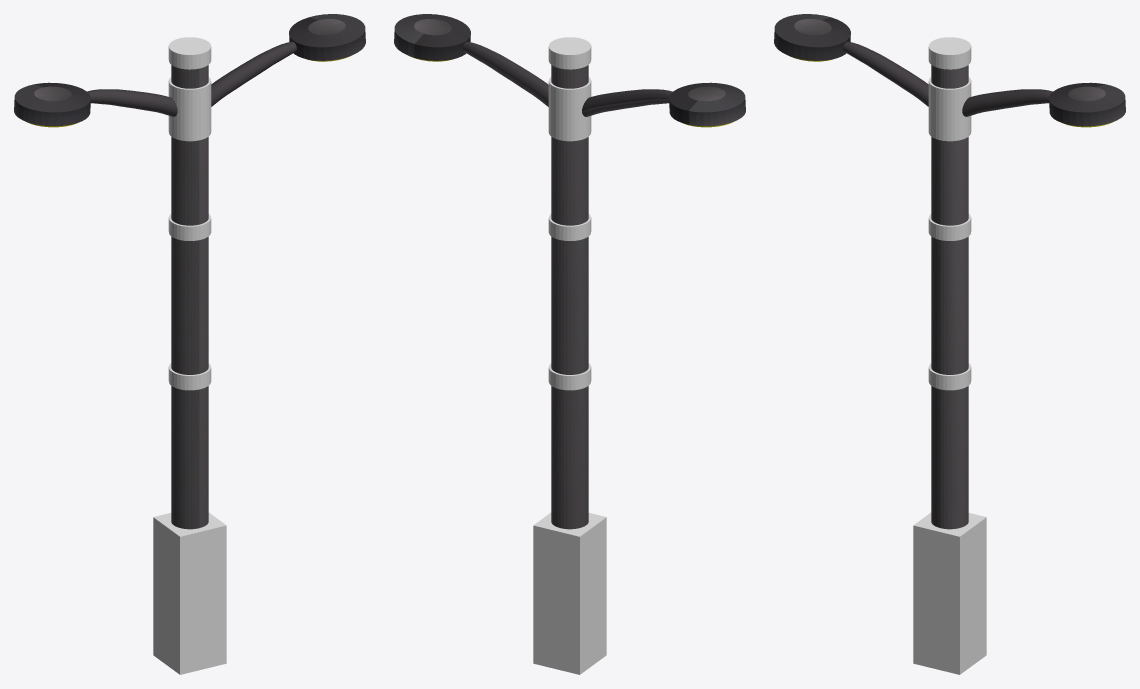
Rendered from Poste.fbx.
3 renders of one model, left to right at view 1: azimuth 30°, elevation 25°; view 2: azimuth 150°, elevation 25°; view 3: azimuth 330°, elevation 25°, orthographic.
Visible parts, largest first — view 1: Cilindro, Cube, Cilindro.006, Cilindro.002, Cilindro.001, Cilindro.003, Cilindro.004, Cilindro.005; view 2: Cilindro, Cube, Cilindro.006, Cilindro.002, Cilindro.001, Cilindro.003, Cilindro.004, Cilindro.005; view 3: Cilindro, Cube, Cilindro.006, Cilindro.002, Cilindro.001, Cilindro.003, Cilindro.004, Cilindro.005.
Boxes of the visible parts, x1,y1,x2,y2 form: Cilindro: (171,65,208,529); Cube: (153,512,226,674); Cilindro.006: (14,14,365,127); Cilindro.002: (87,41,296,116); Cilindro.001: (168,77,211,141); Cilindro.003: (168,37,211,69); Cilindro.004: (168,214,211,240); Cilindro.005: (168,363,211,390); Cilindro: (551,65,588,529); Cube: (533,512,606,674); Cilindro.006: (394,14,745,127); Cilindro.002: (463,41,672,116); Cilindro.001: (548,77,591,141); Cilindro.003: (548,37,591,69); Cilindro.004: (548,214,591,240); Cilindro.005: (548,363,591,390); Cilindro: (931,65,968,529); Cube: (913,512,986,674); Cilindro.006: (774,14,1125,127); Cilindro.002: (843,41,1052,116); Cilindro.001: (928,77,971,141); Cilindro.003: (928,37,971,69); Cilindro.004: (928,214,971,240); Cilindro.005: (928,363,971,390).
Size of the model in its own units: 257 by 440 by 47.58.
3 materials, 1 textured.
